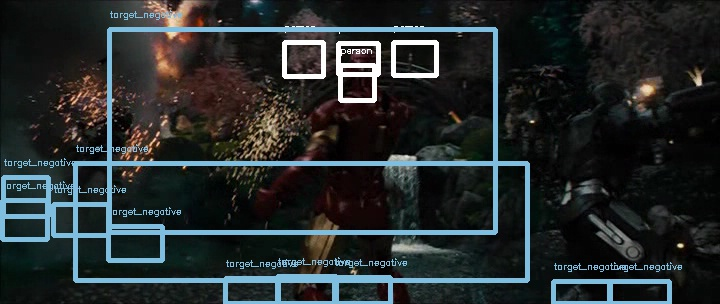person: (339, 42, 387, 94), (338, 42, 386, 94), (340, 42, 388, 94), (339, 41, 387, 93), (339, 43, 387, 95)
target_negative: (263, 206, 550, 292), (235, 158, 561, 228), (703, 37, 716, 147), (44, 301, 239, 304), (462, 164, 568, 166)
